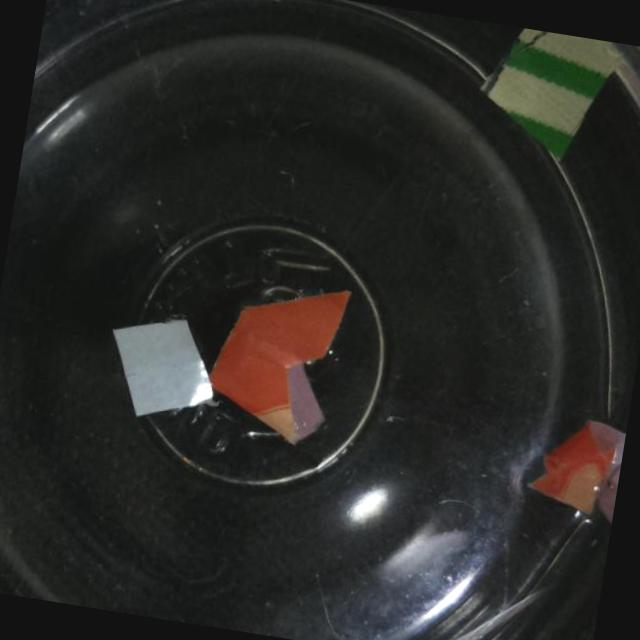fiber: (203, 270, 354, 452), (481, 25, 634, 172), (100, 304, 229, 429), (524, 405, 626, 527)
